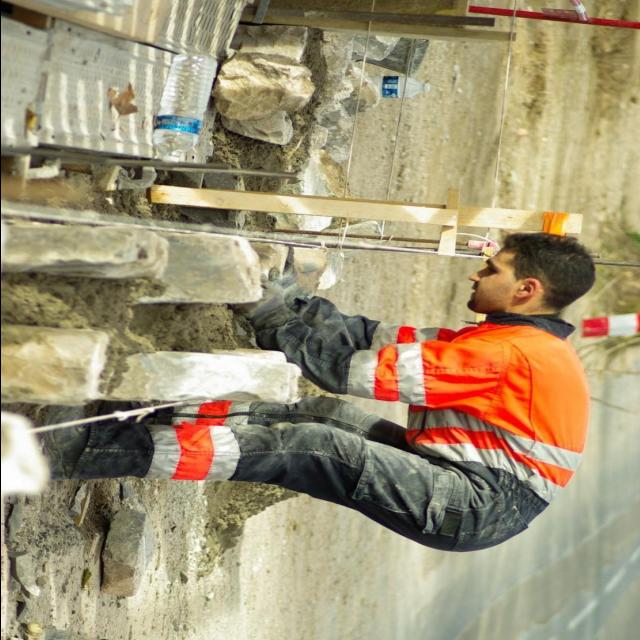jacket: (348, 313, 594, 509)
